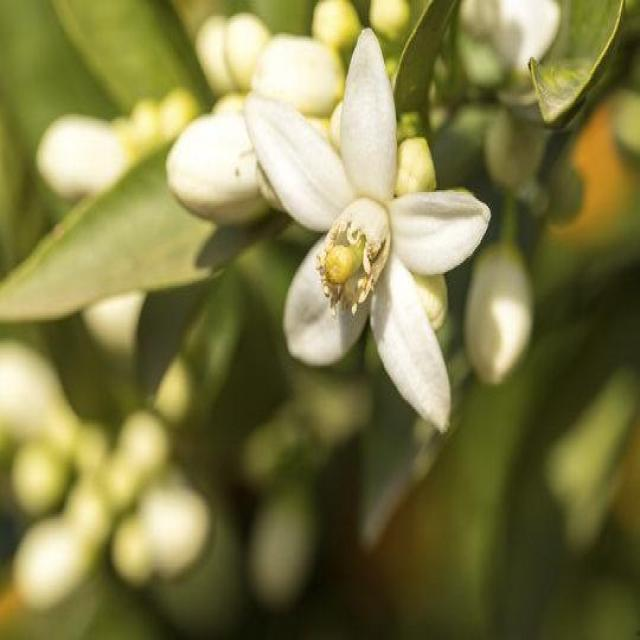Bunga: (245, 30, 490, 439), (166, 115, 273, 233), (244, 28, 349, 114), (470, 247, 530, 393)
